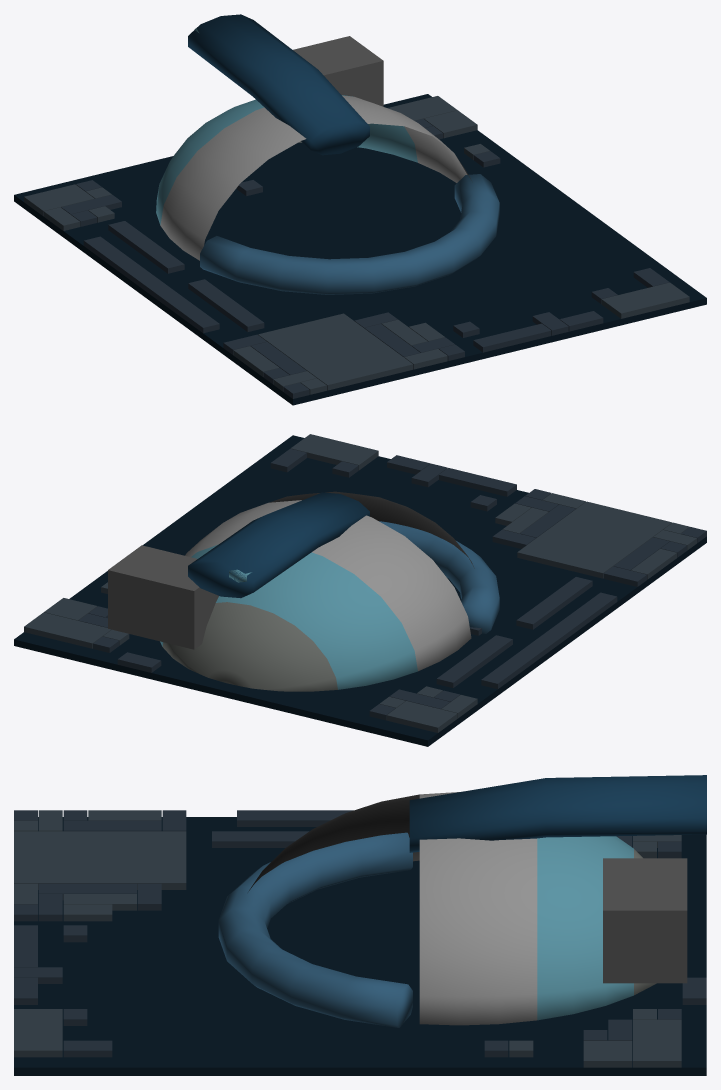
The model's file is newshc-283.glb.
3 views of the same model, one above another, from view 1: azimuth 30°, elevation 25°; view 2: azimuth 150°, elevation 25°; view 3: azimuth 270°, elevation 25° (orthographic). The views are drawn at different scales.
Visible parts, largest first — view 1: newshc-283; view 2: newshc-283; view 3: newshc-283.
Boxes of the visible parts, <box> form: newshc-283: <box>14,14,706,405</box>; newshc-283: <box>14,434,706,746</box>; newshc-283: <box>14,775,706,1075</box>.
Bounding box in the file's own units: 2 × 0.6208 × 2.33.
